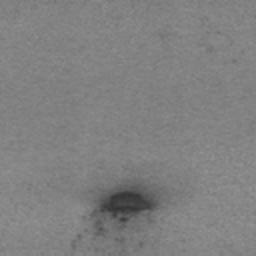Iron sheet ash: (92, 186, 160, 230), (95, 220, 109, 236)
